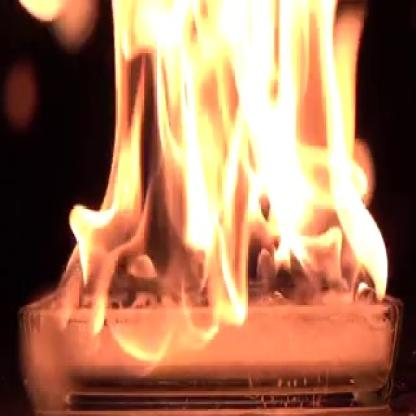fire: (49, 0, 394, 367)
